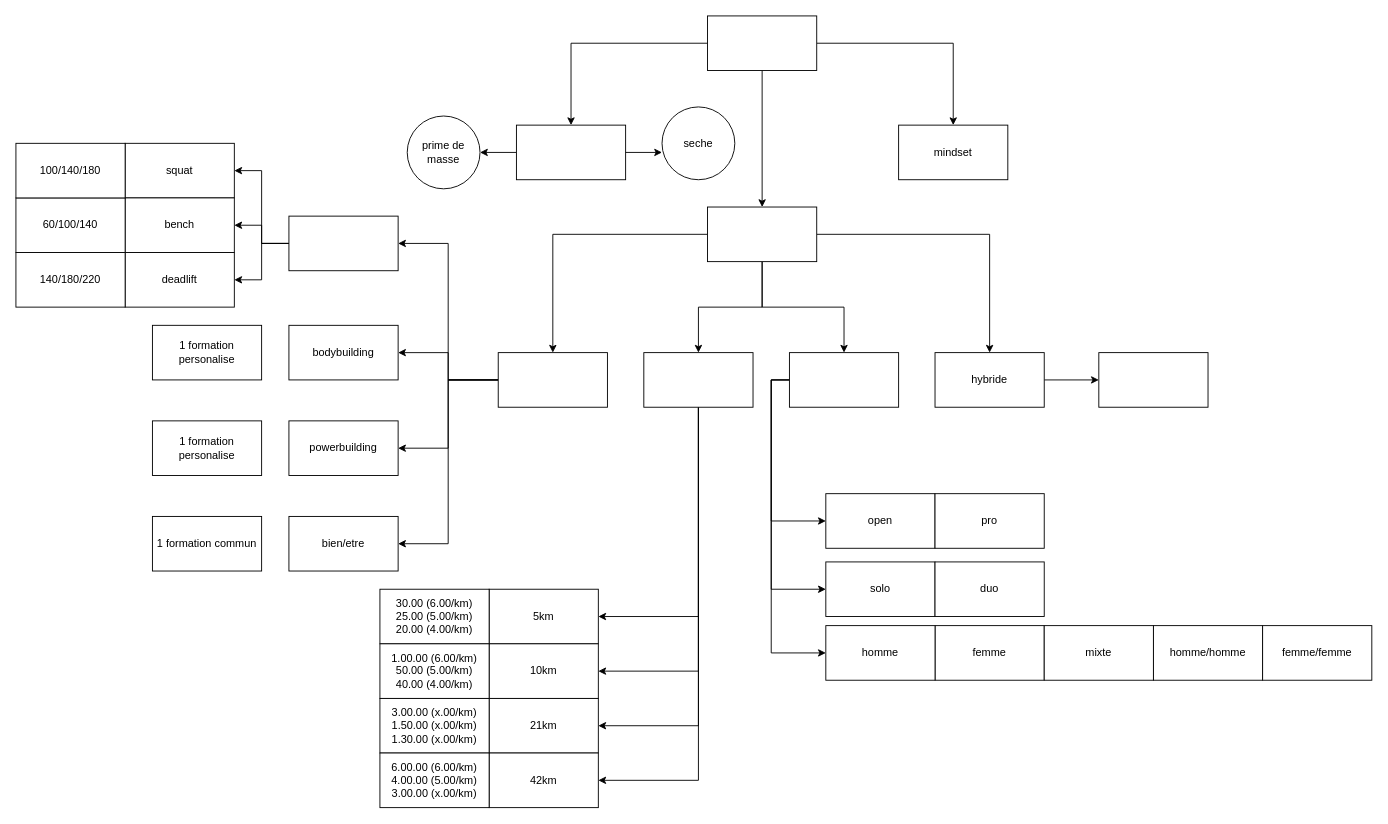
The diagram is 1388 pixels wide and 824 high, and some of its shapes have lost their labels. The box of each missing label's shape, as (x1, y1, x2, y2) in pixels:
1 formation personalise hyrox+muscu+course: (1098, 352, 1208, 407)
alimentation: (516, 124, 626, 180)
course: (643, 352, 753, 407)
entrainement: (707, 206, 817, 262)
hyrox: (789, 352, 899, 407)
page d accueil: (707, 15, 817, 71)
powerlifting: (288, 215, 398, 271)
salle: (497, 352, 607, 407)
